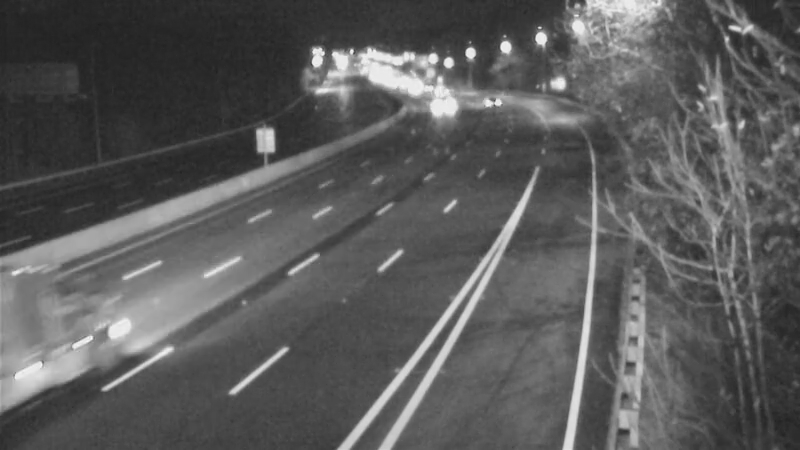vehicle: (417, 66, 467, 116), (465, 75, 515, 125), (420, 76, 470, 126)
